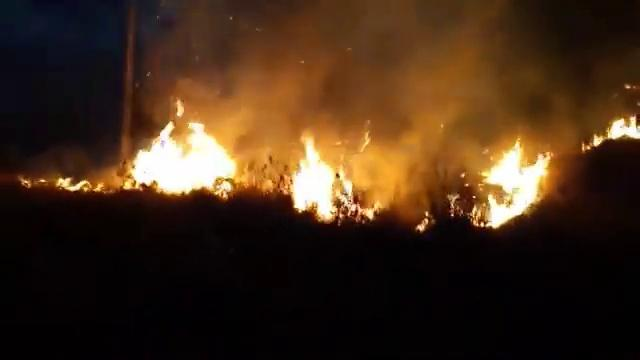fire: (144, 129, 220, 186), (296, 167, 338, 217), (492, 163, 539, 206)
